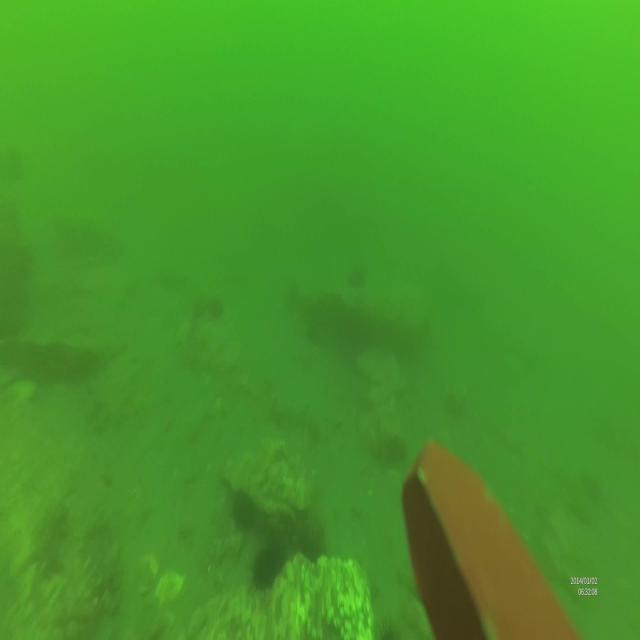echinus: (250, 542, 284, 590), (231, 486, 257, 535), (300, 523, 323, 564)
